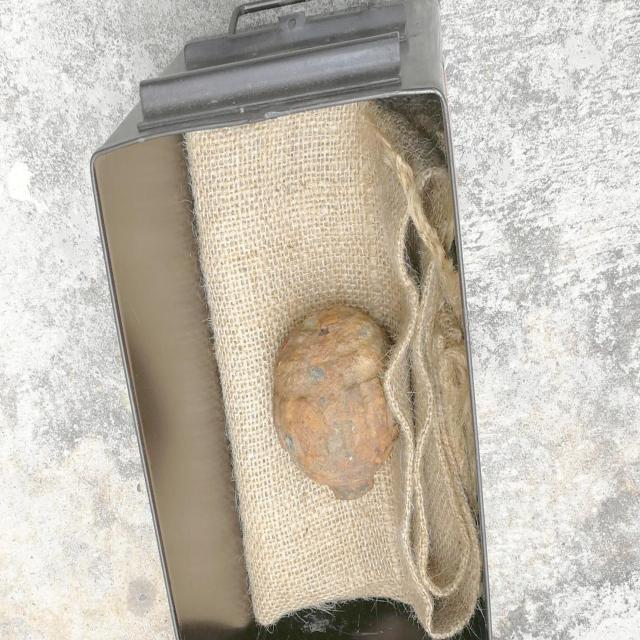grenade: (272, 303, 405, 502)
